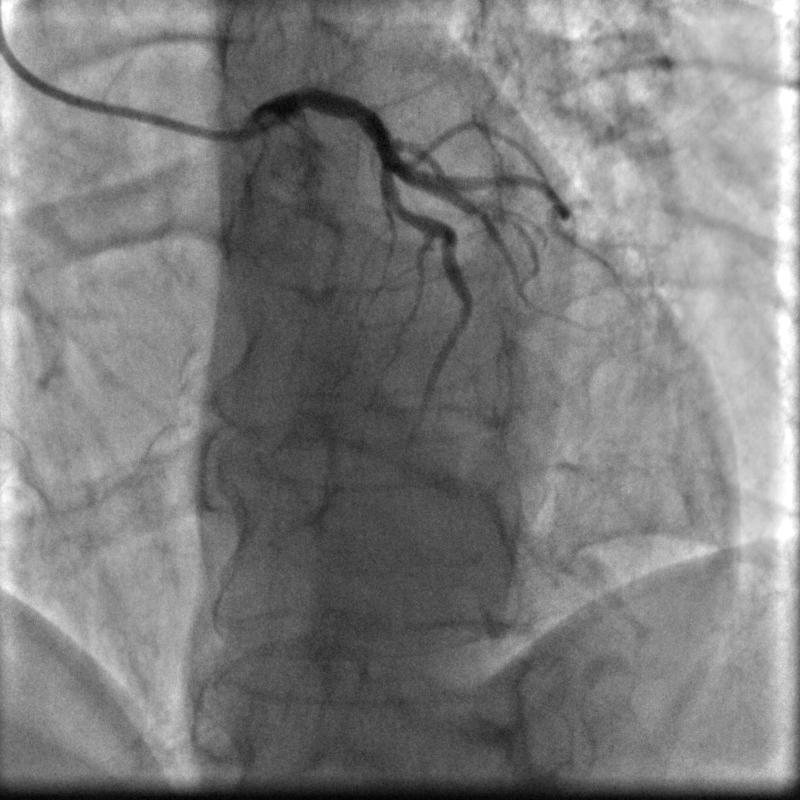Stenosis: (385, 194, 412, 221)
